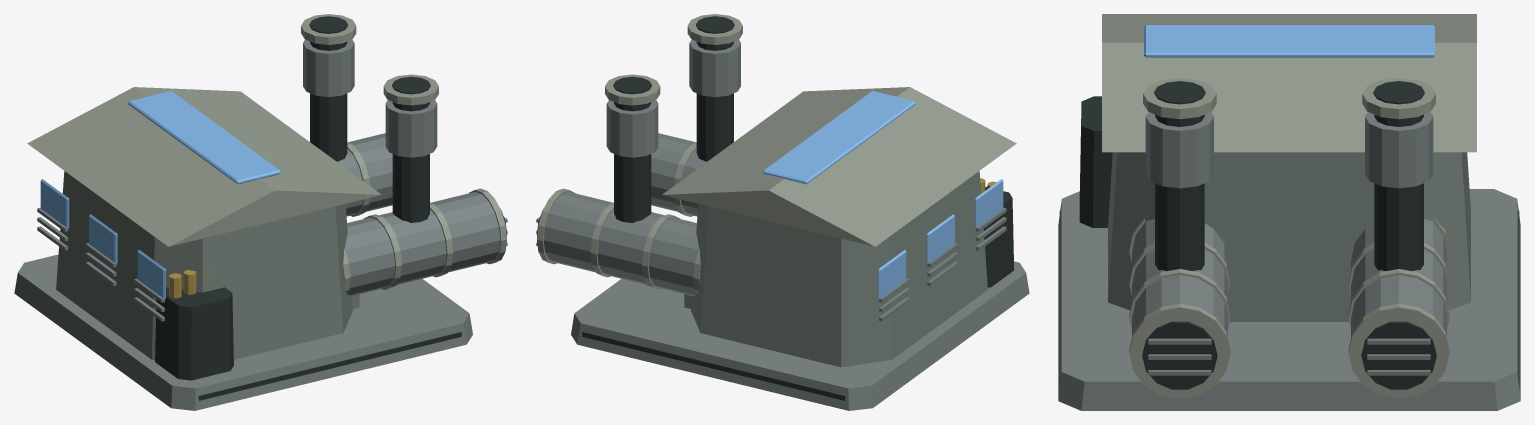
File: power_plant.glb
3 views of the same model, side by side, from view 1: azimuth 30°, elevation 25°; view 2: azimuth 150°, elevation 25°; view 3: azimuth 270°, elevation 25° (orthographic). The views are drawn at different scales.
Parts seen in each view (by area): view 1: power_plant; view 2: power_plant; view 3: power_plant.
Boxes of the visible parts, bbox=[...] form: power_plant: bbox=[14, 14, 507, 410]; power_plant: bbox=[536, 14, 1029, 410]; power_plant: bbox=[1058, 14, 1520, 410].
Size of the model in its own units: 3.23 by 1.95 by 2.7.
